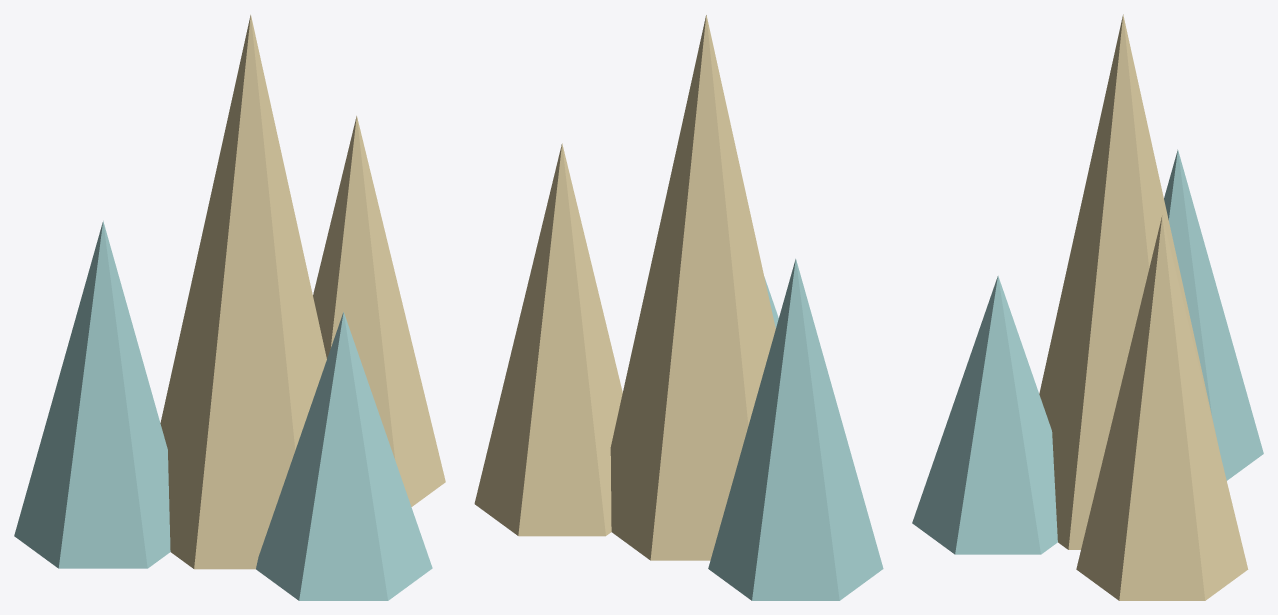
File: Crystal.fbx
3 views of the same model, side by side, from view 1: azimuth 30°, elevation 25°; view 2: azimuth 150°, elevation 25°; view 3: azimuth 270°, elevation 25° (orthographic). The views are drawn at different scales.
Parts seen in each view (by area): view 1: Facet00, Facet01, Facet03, Facet02; view 2: Facet00, Facet02, Facet01; view 3: Facet02, Facet00, Facet03, Facet01.
Boxes of the visible parts, x1=… form: Facet00: x1=160, y1=14, x2=326, y2=569; Facet01: x1=14, y1=221, x2=170, y2=568; Facet03: x1=256, y1=312, x2=432, y2=600; Facet02: x1=313, y1=115, x2=445, y2=506; Facet00: x1=610, y1=15, x2=775, y2=560; Facet02: x1=474, y1=143, x2=622, y2=536; Facet01: x1=708, y1=258, x2=883, y2=600; Facet02: x1=1076, y1=216, x2=1248, y2=600; Facet00: x1=1039, y1=14, x2=1219, y2=549; Facet03: x1=912, y1=275, x2=1057, y2=554; Facet01: x1=1164, y1=149, x2=1263, y2=480.
Size of the model in its own units: 54.05 by 70 by 45.
